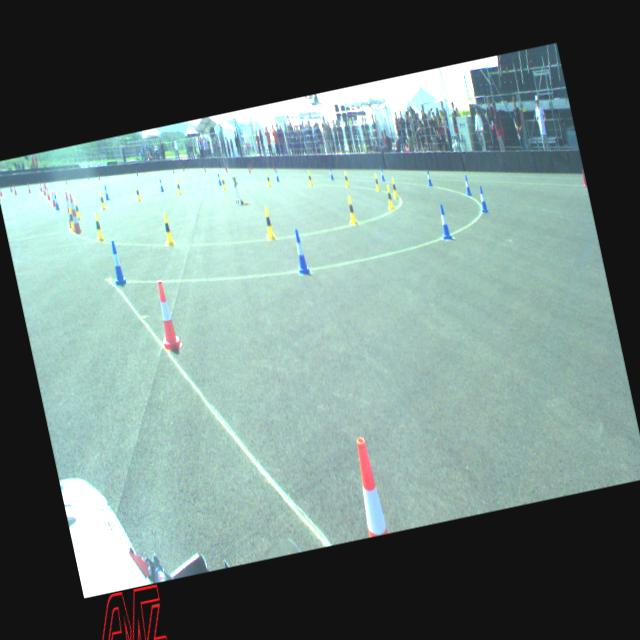blue_cone: (288, 226, 312, 278), (106, 239, 127, 285), (435, 202, 453, 241), (476, 184, 488, 213), (462, 174, 472, 197), (52, 192, 60, 210), (425, 169, 433, 187), (378, 166, 385, 182), (103, 184, 109, 200), (158, 178, 164, 192), (328, 167, 334, 180), (216, 172, 222, 185), (274, 168, 279, 182)
large_orange_cone: (348, 436, 388, 537), (66, 192, 82, 234), (61, 190, 74, 229)
orange_cone: (150, 278, 182, 352), (50, 190, 56, 207), (45, 187, 51, 200), (12, 183, 17, 194), (26, 182, 31, 193), (42, 184, 46, 195), (38, 182, 42, 192), (0, 183, 3, 196), (0, 187, 1, 200)
yellow_cone: (260, 206, 276, 240), (160, 213, 175, 246), (344, 194, 358, 226), (92, 212, 105, 242), (384, 184, 394, 210), (66, 206, 76, 231), (389, 177, 398, 199), (372, 172, 381, 192), (73, 198, 81, 220), (98, 191, 106, 210), (342, 171, 350, 188), (306, 170, 314, 186), (134, 184, 141, 202), (175, 179, 182, 195), (219, 174, 226, 190), (265, 172, 271, 186)
